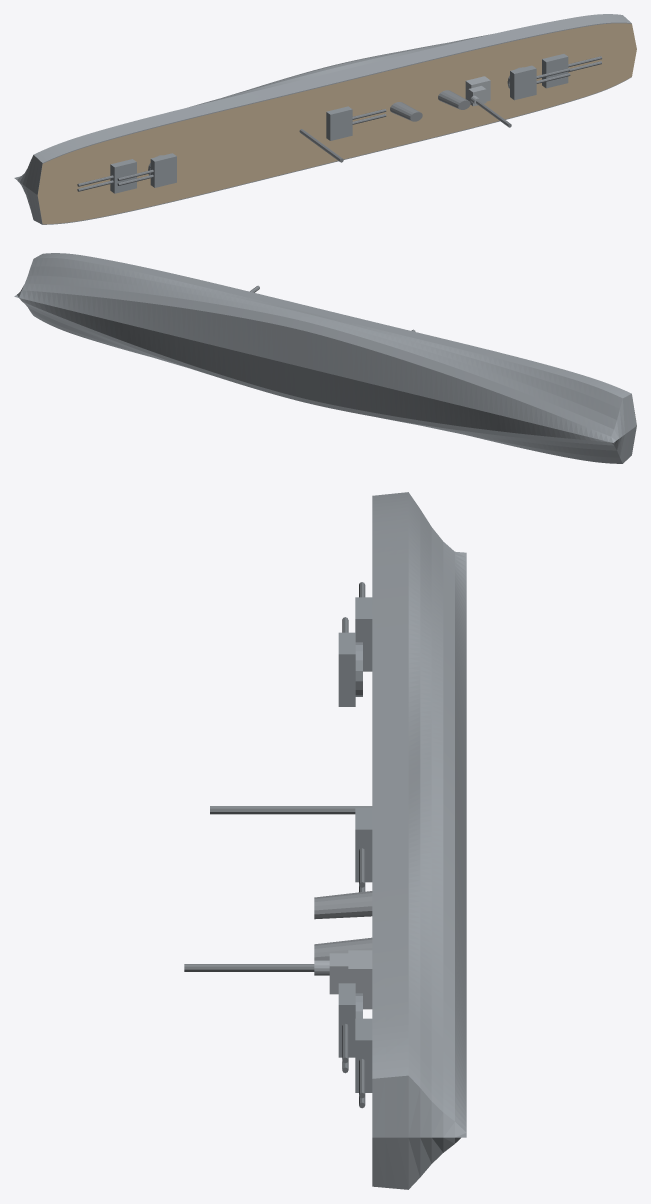
3 views of the same model, one above another, from view 1: azimuth 30°, elevation 25°; view 2: azimuth 150°, elevation 25°; view 3: azimuth 270°, elevation 25° (orthographic). The views are drawn at different scales.
Parts seen in each view (by area): view 1: A124; view 2: A124; view 3: A124.
Boxes of the visible parts, x1,y1,x2,y2 form: A124: [14, 14, 636, 224]; A124: [14, 253, 636, 463]; A124: [184, 492, 466, 1189].
Bounding box in the file's own units: 227 × 31.2 × 46.31.
